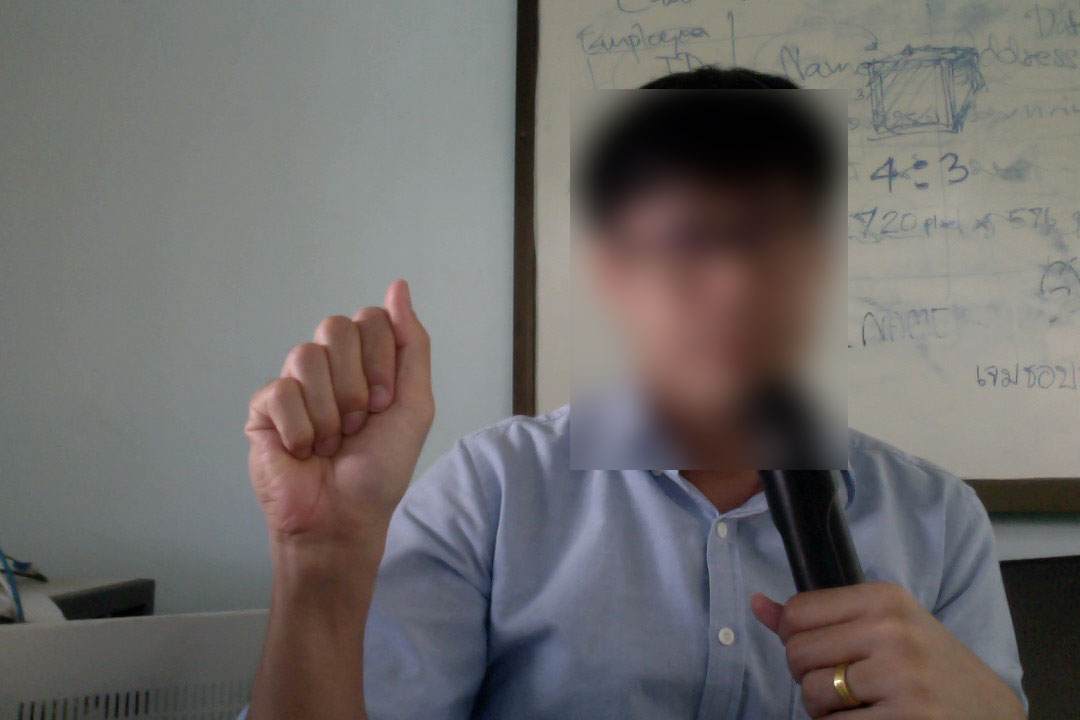or: (235, 270, 443, 541)
